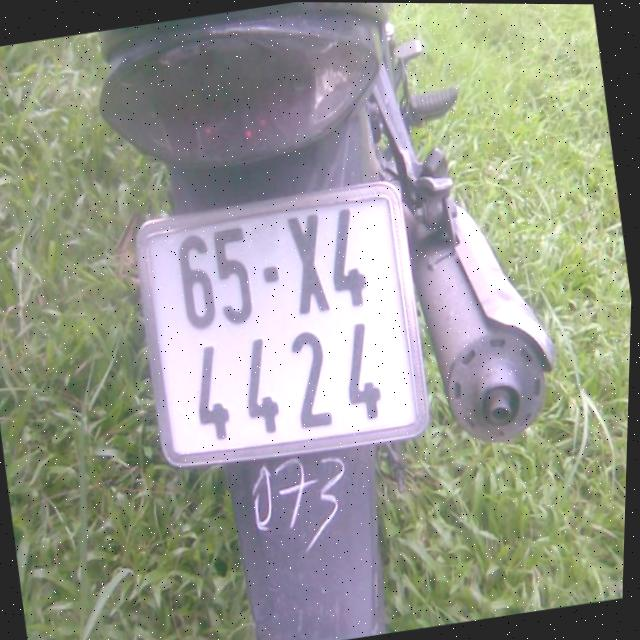motorcycle: (69, 1, 614, 640)
plate: (126, 178, 443, 475)
